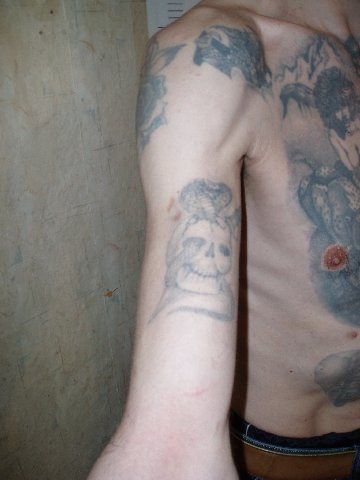tatu7_zmeya: (152, 164, 248, 341)
